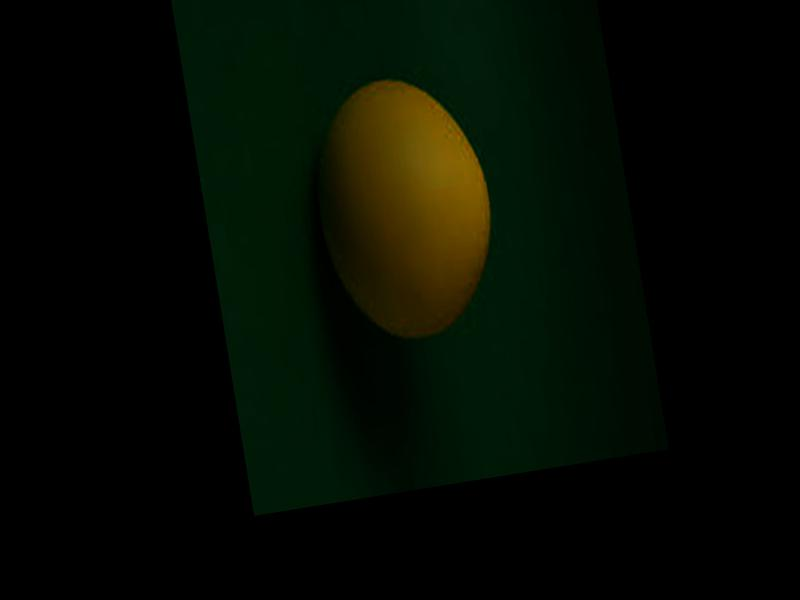Eggs: (298, 62, 509, 343)
